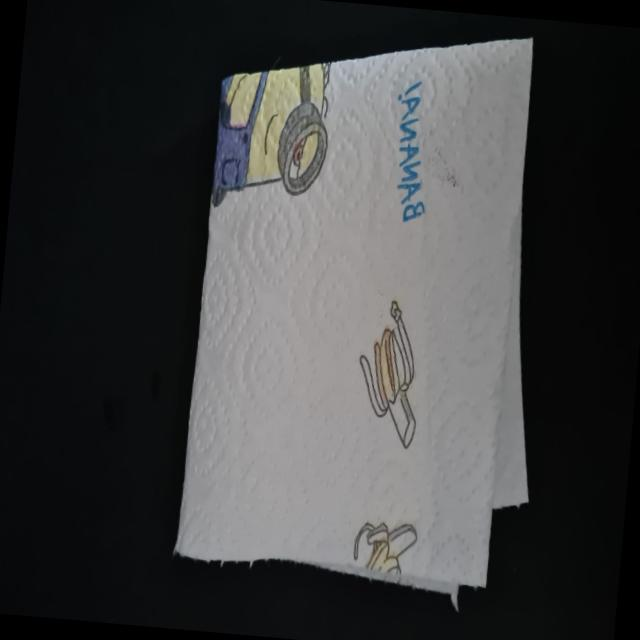organic waste: (171, 4, 577, 623)
